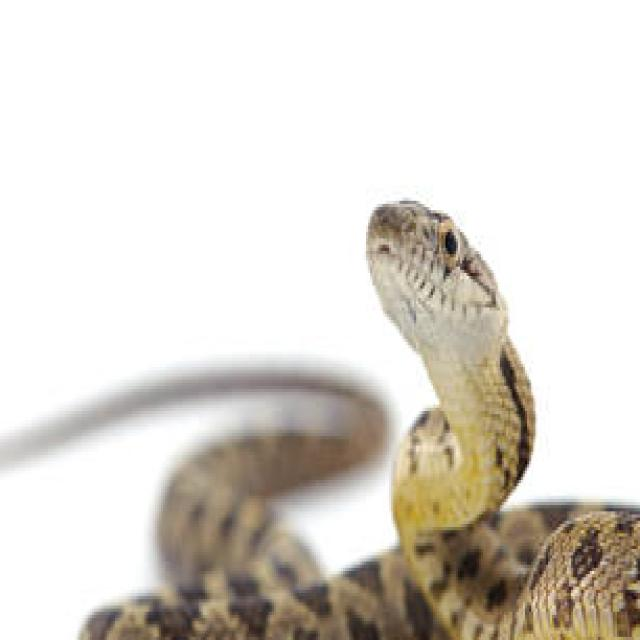Snake: (0, 191, 640, 640)
